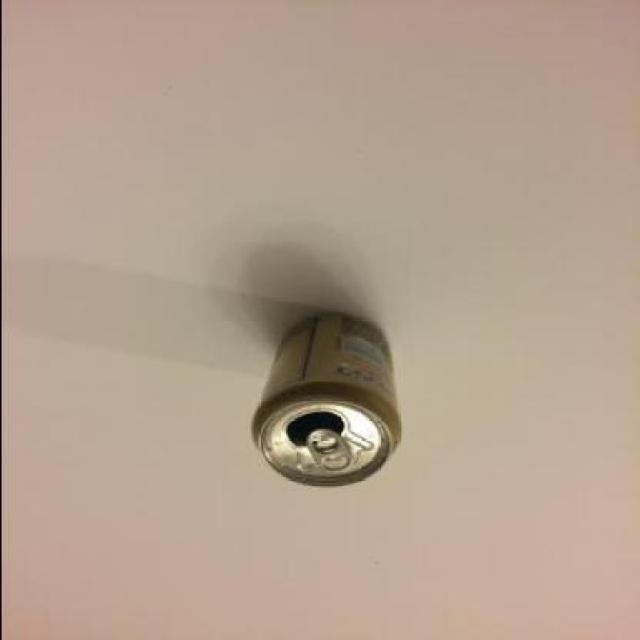METAL: (252, 314, 403, 488)
